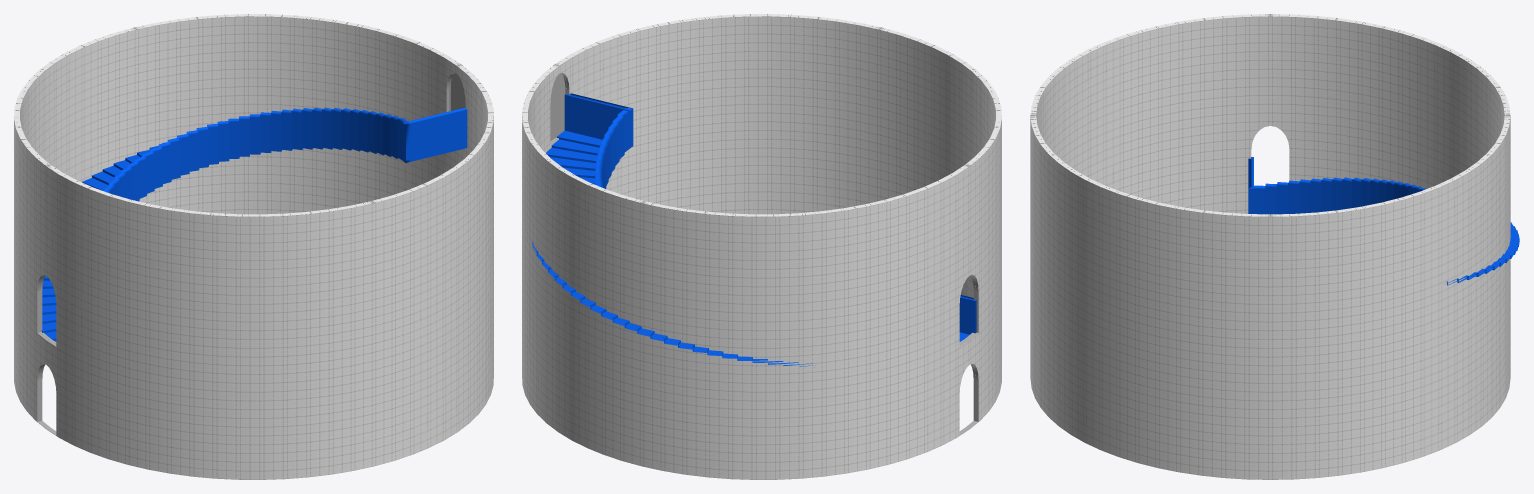
Rendered from inner.fbx.
3 views of the same model, side by side, from view 1: azimuth 30°, elevation 25°; view 2: azimuth 150°, elevation 25°; view 3: azimuth 270°, elevation 25° (orthographic).
Visible parts, largest first — view 1: polySurface5, polySurface1; view 2: polySurface5, polySurface1; view 3: polySurface5, polySurface1.
Part boxes in pixels (x1,y1,x2,y2): polySurface5: (14,14,493,479); polySurface1: (41,107,467,341); polySurface5: (522,14,1001,479); polySurface1: (532,93,976,367); polySurface5: (1030,14,1510,479); polySurface1: (1248,157,1519,285).
Bounding box in the file's own units: 50.6 × 30.6 × 51.55.
Materials: 3 (1 with a texture image).
